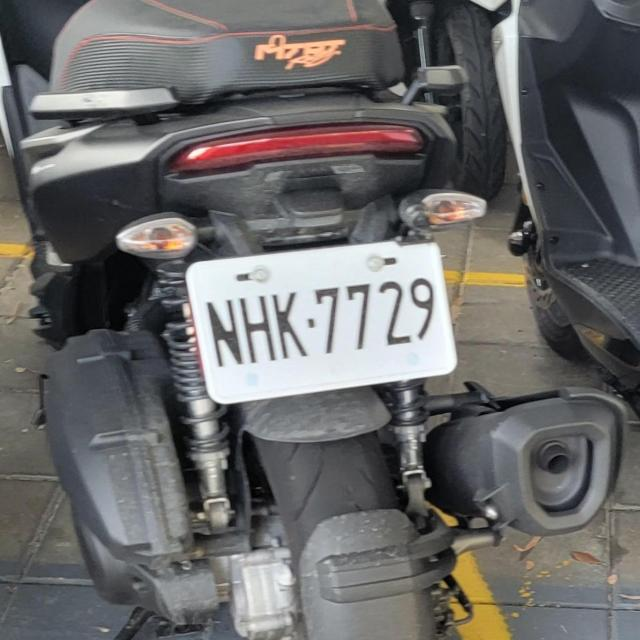W: (183, 228, 462, 407)
